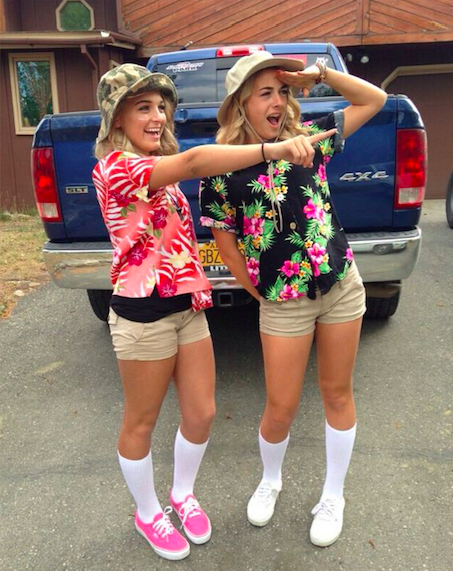Person: (218, 51, 387, 547), (95, 63, 216, 561)
